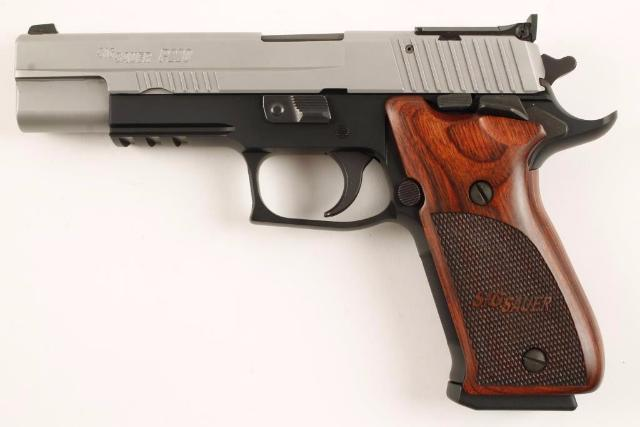handgun: (11, 8, 621, 414)
